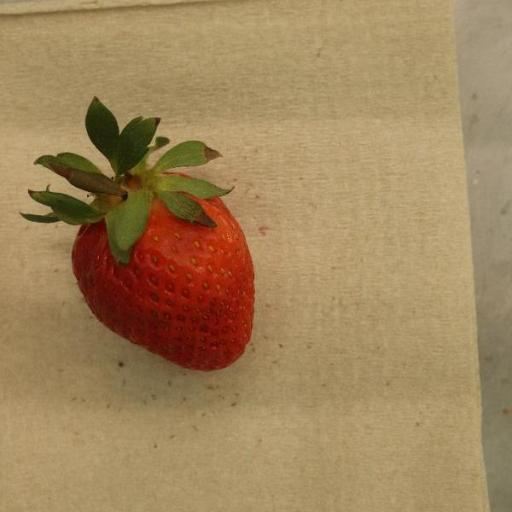Strawberry: (20, 97, 255, 371)
